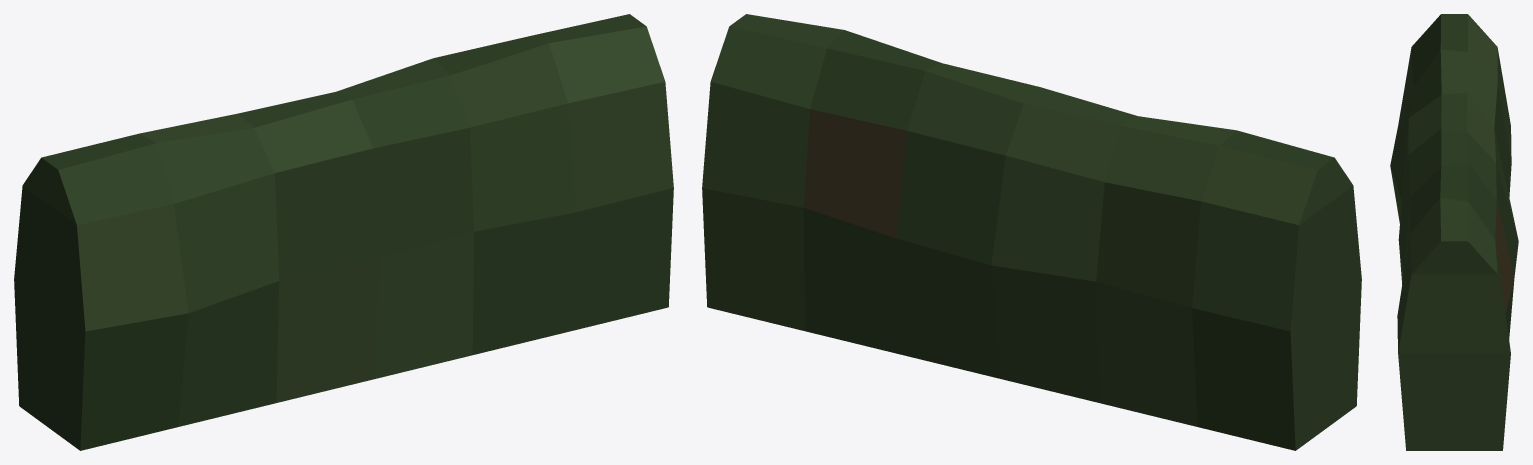
Rendered from hedge-row-lod.glb.
3 views of the same model, side by side, from view 1: azimuth 30°, elevation 25°; view 2: azimuth 150°, elevation 25°; view 3: azimuth 270°, elevation 25° (orthographic). The views are drawn at different scales.
Parts seen in each view (by area): view 1: hedge-row; view 2: hedge-row; view 3: hedge-row.
Part boxes in pixels (box(x1,y1,x2,y2)): hedge-row: box(14, 14, 673, 450); hedge-row: box(702, 14, 1361, 450); hedge-row: box(1390, 14, 1518, 450).
Bounding box in the file's own units: 4 × 1.77 × 0.9557.
